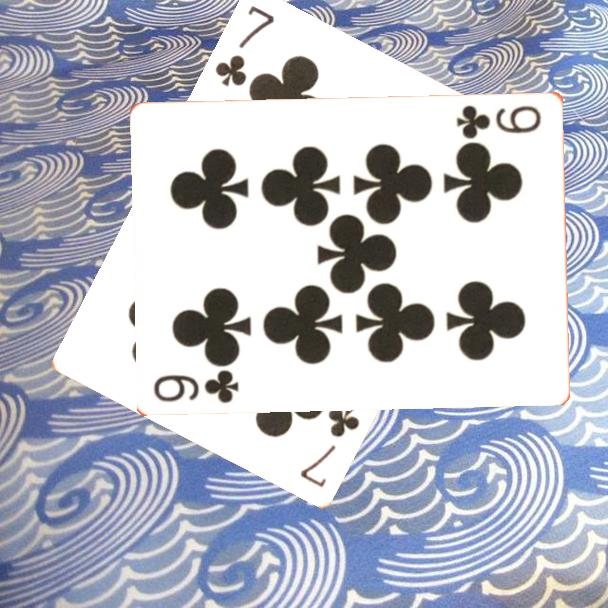c07: (211, 2, 278, 91), (296, 403, 363, 491)
c09: (453, 101, 545, 140), (150, 366, 242, 405)
